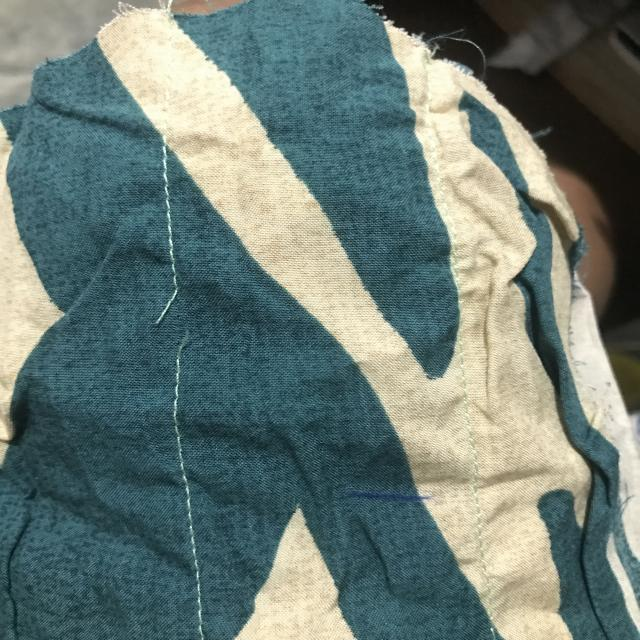broken: (135, 277, 208, 375)
good: (143, 176, 189, 250)
